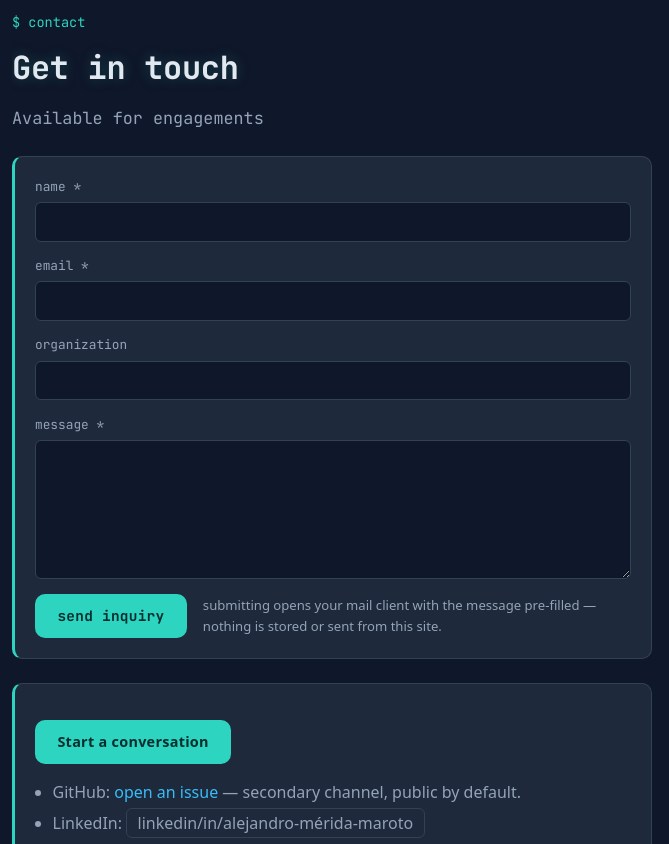
Scenario: Contact inquiry form › shows inline validation errors for empty required fields
The width and height of the screenshot is (669, 844).
Click the button "send inquiry" at (111, 616), box x1=35 y1=594 x2=187 y2=638
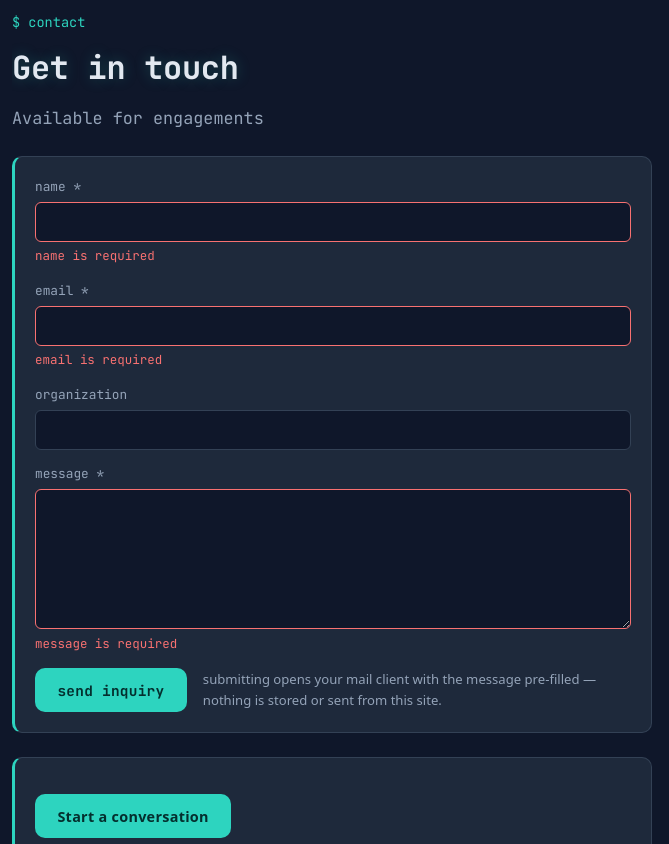
Now the text "name is required" is shown, box x1=35 y1=248 x2=155 y2=264
Now the text "email is required" is shown, box x1=35 y1=352 x2=162 y2=368
Now the text "message is required" is shown, box x1=35 y1=635 x2=177 y2=652
